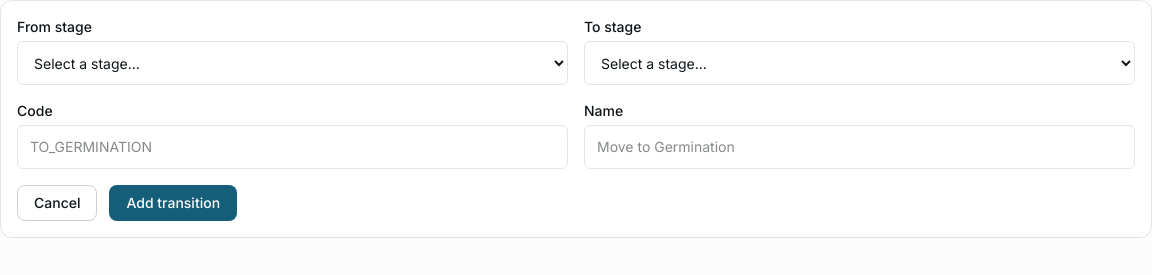
WorkflowTransitionForm › blocks an identical from/to stage selection client-side
The width and height of the screenshot is (1152, 275).
Select "Seeding (SEEDING)" in the dropdown labelled "From stage". click: point(292, 63)
box: [17, 41, 568, 85]
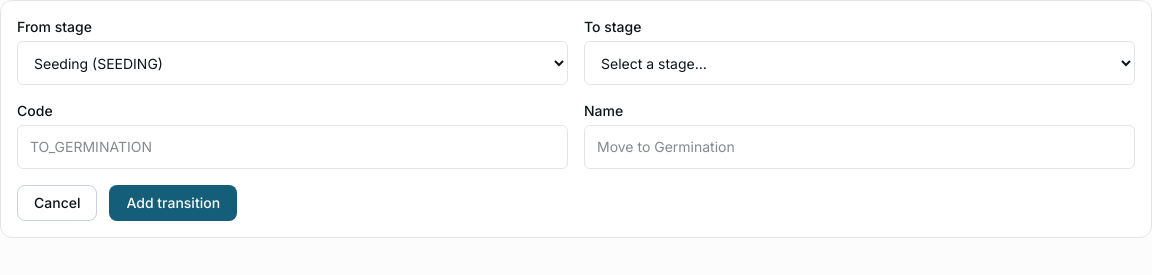
Select "Seeding (SEEDING)" in the dropdown labelled "To stage". click: point(860, 63)
box: [584, 41, 1135, 85]
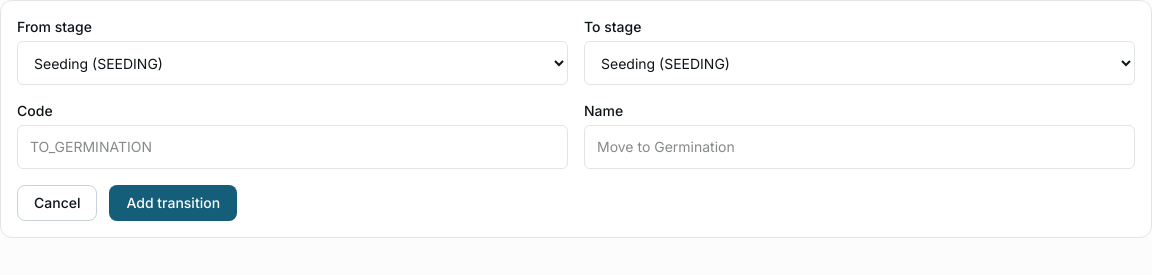
Type "SELF" into the field labelled "Code". click: point(292, 147)
box: [17, 125, 568, 169]
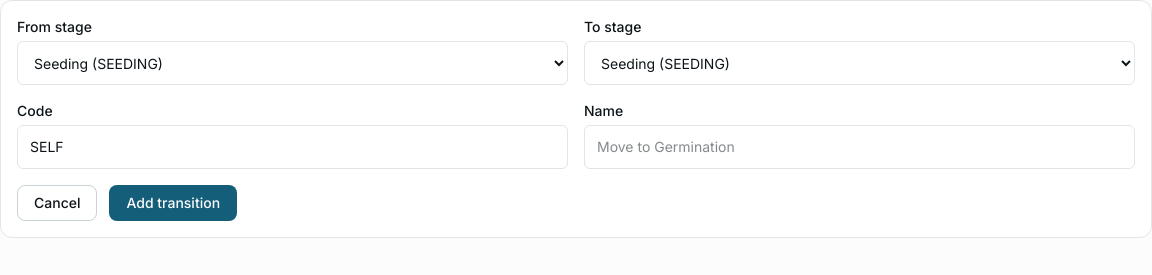
Type "Self" into the field labelled "Name". click: point(860, 147)
box: [584, 125, 1135, 169]
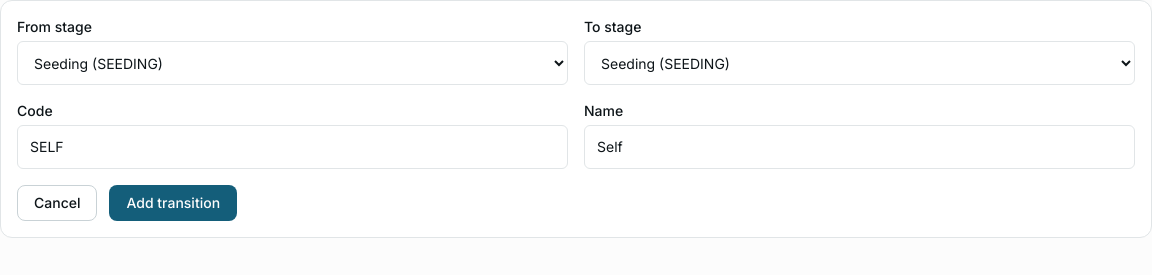
Submit the form
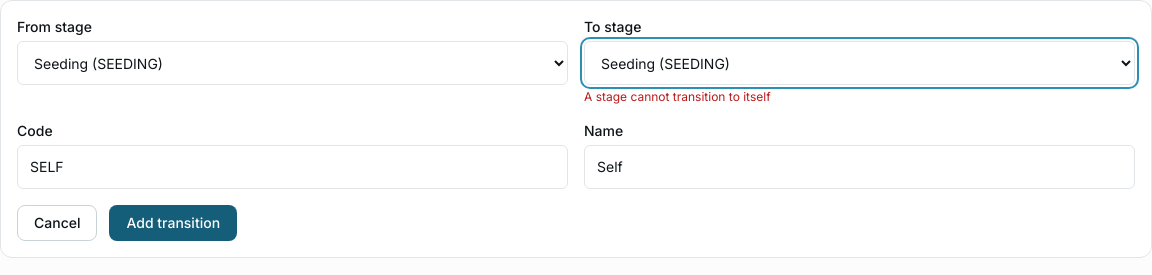
Result: the text "A stage cannot transition to itself" is shown at [584, 89, 771, 104]
